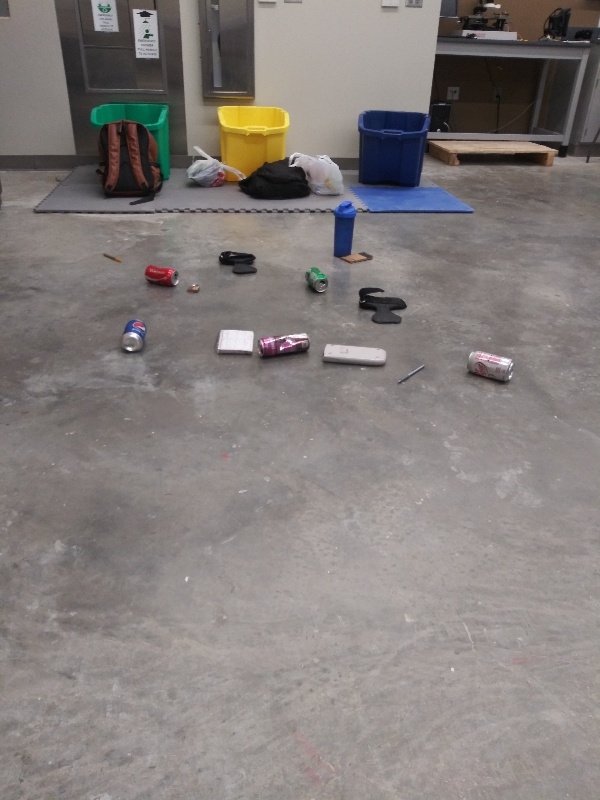can: (255, 330, 314, 364), (464, 346, 516, 383), (120, 314, 148, 355), (301, 261, 332, 296), (142, 262, 182, 287)
